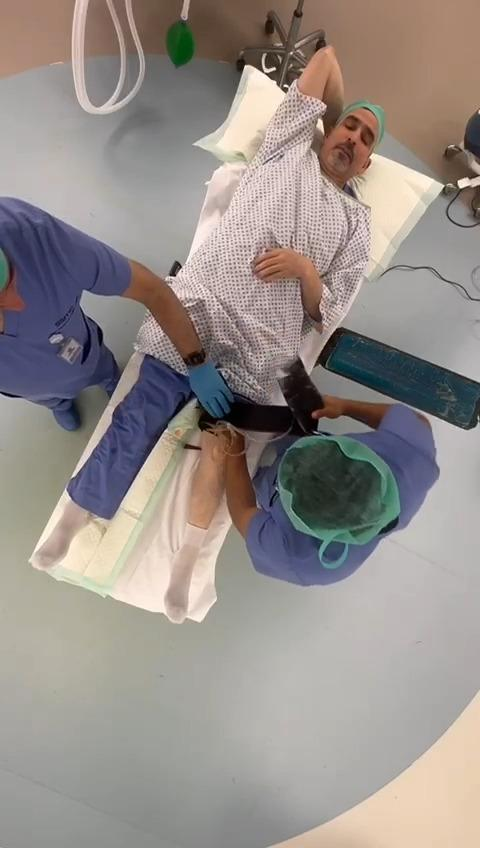patient: (31, 46, 384, 621)
tourniquet: (224, 359, 323, 434)
